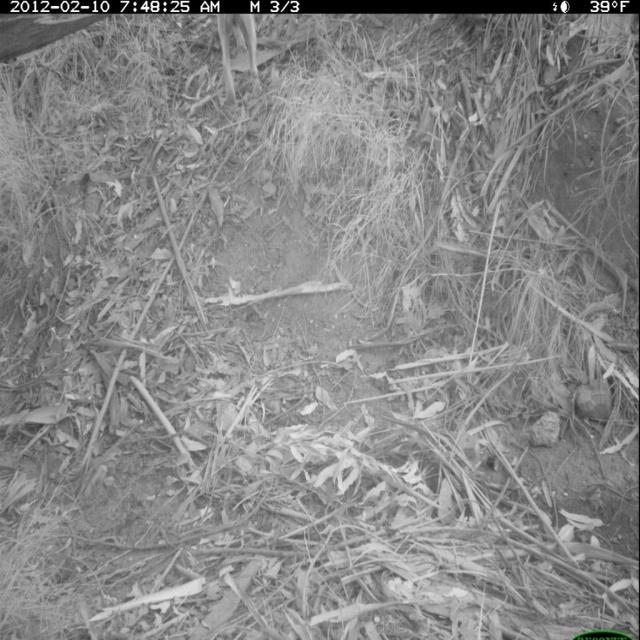dog: (210, 13, 274, 115)
